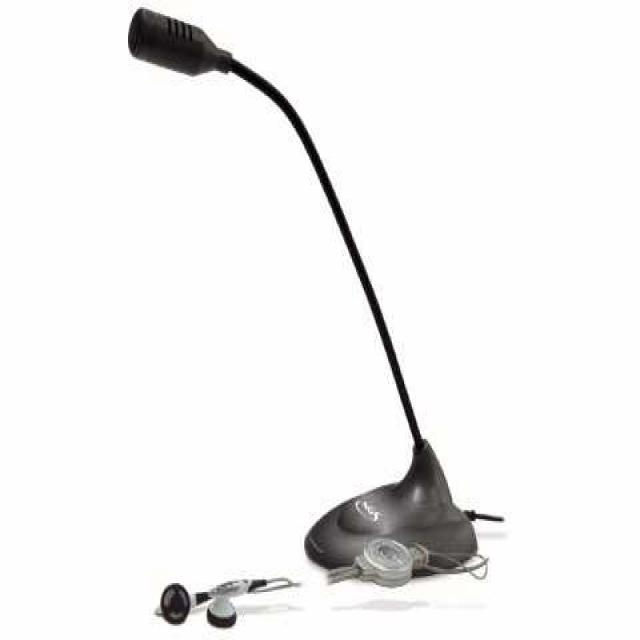microphone: (128, 6, 230, 78)
